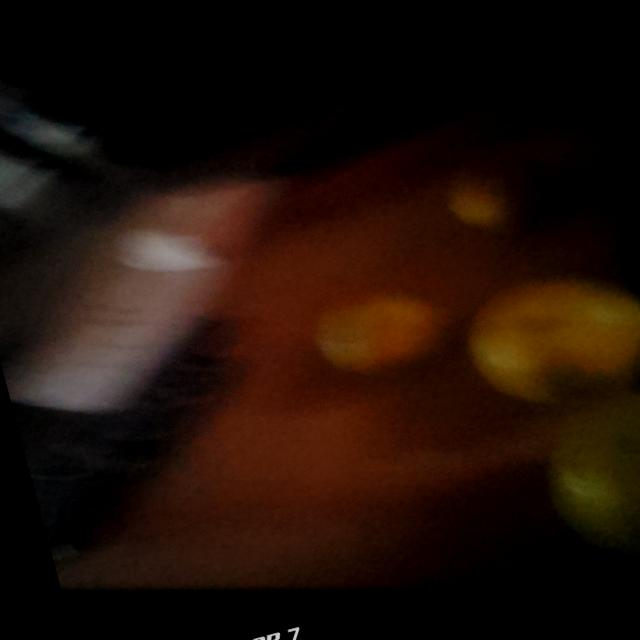Ripe orange: (451, 250, 640, 427), (520, 386, 640, 577), (311, 282, 442, 393)
